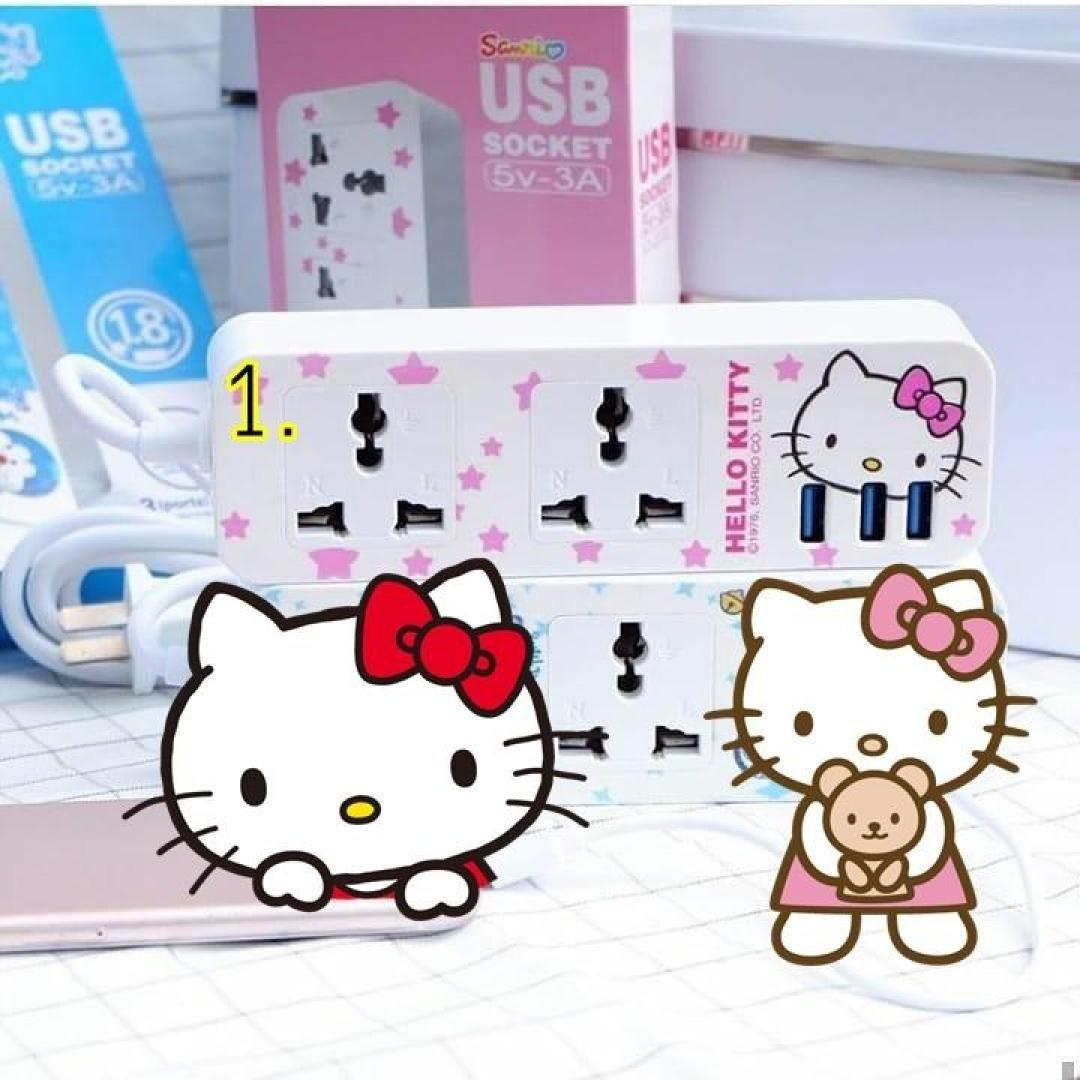Three_eye_plug: (185, 270, 1018, 617)
